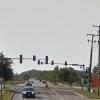Traffic light: (14, 50, 75, 76)
